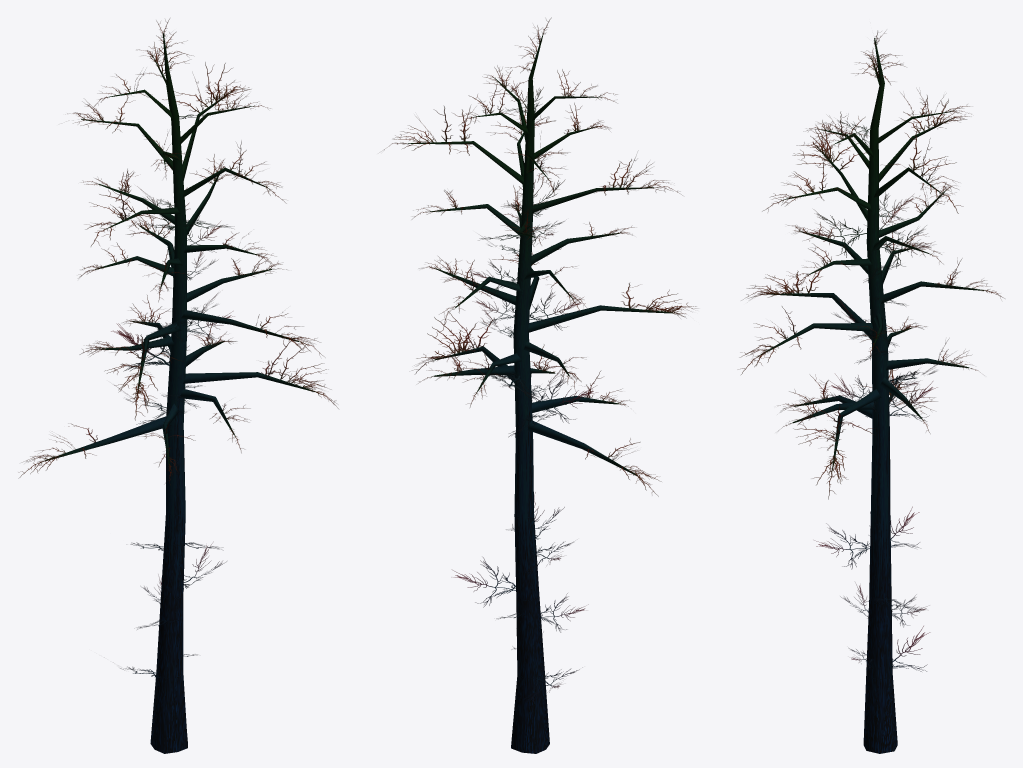
Rendered from Scoth_Pine_G.glb.
3 views of the same model, side by side, from view 1: azimuth 30°, elevation 25°; view 2: azimuth 150°, elevation 25°; view 3: azimuth 270°, elevation 25° (orthographic).
Parts seen in each view (by area): view 1: D_LOD0; view 2: D_LOD0; view 3: D_LOD0.
Part boxes in pixels (left/top/right/bottom): D_LOD0: left=18, top=19, right=338, bottom=753; D_LOD0: left=384, top=17, right=696, bottom=753; D_LOD0: left=738, top=30, right=1004, bottom=753.
Size of what is drawn, in the model's own units: 13 by 31.51 by 10.85.
Materials: 3 (3 with a texture image).
